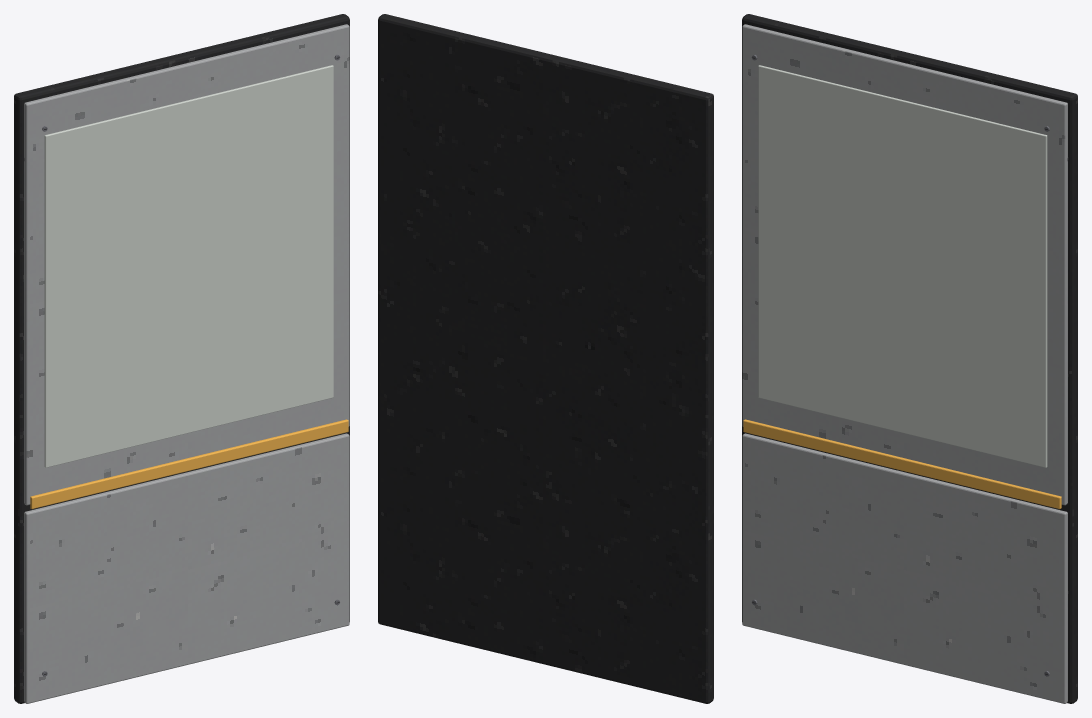
The model's file is lbd_wall_light_panel.glb.
3 renders of one model, left to right at view 1: azimuth 30°, elevation 25°; view 2: azimuth 150°, elevation 25°; view 3: azimuth 330°, elevation 25°, orthographic.
Visible parts, largest first — view 1: wall_light_panel__inset paint_012, wall_light_panel__painted panel_009, wall_light_panel__painted panel_006, wall_light_panel__backing_003, wall_light_panel__service stripe_015; view 2: wall_light_panel__backing_003; view 3: wall_light_panel__inset paint_012, wall_light_panel__painted panel_009, wall_light_panel__painted panel_006, wall_light_panel__backing_003, wall_light_panel__service stripe_015.
Part boxes in pixels (box(x1,y1,x2,y2)): wall_light_panel__inset paint_012: box(44, 65, 333, 467); wall_light_panel__painted panel_009: box(24, 433, 349, 703); wall_light_panel__painted panel_006: box(24, 24, 349, 505); wall_light_panel__backing_003: box(14, 14, 349, 703); wall_light_panel__service stripe_015: box(30, 419, 348, 509); wall_light_panel__backing_003: box(378, 14, 713, 703); wall_light_panel__inset paint_012: box(758, 65, 1047, 467); wall_light_panel__painted panel_009: box(742, 433, 1067, 703); wall_light_panel__painted panel_006: box(742, 24, 1067, 505); wall_light_panel__backing_003: box(742, 14, 1077, 703); wall_light_panel__service stripe_015: box(743, 419, 1061, 509).
Size of the model in its own units: 1.6 by 2.8 by 0.1105.
Materials: 5 (3 with a texture image).
